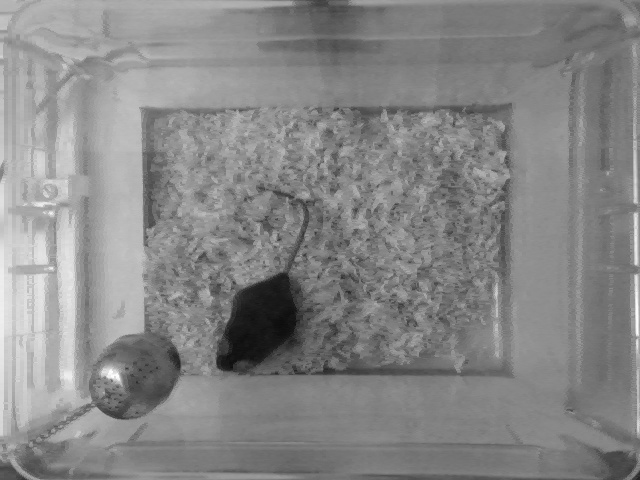mice: (217, 174, 314, 379)
